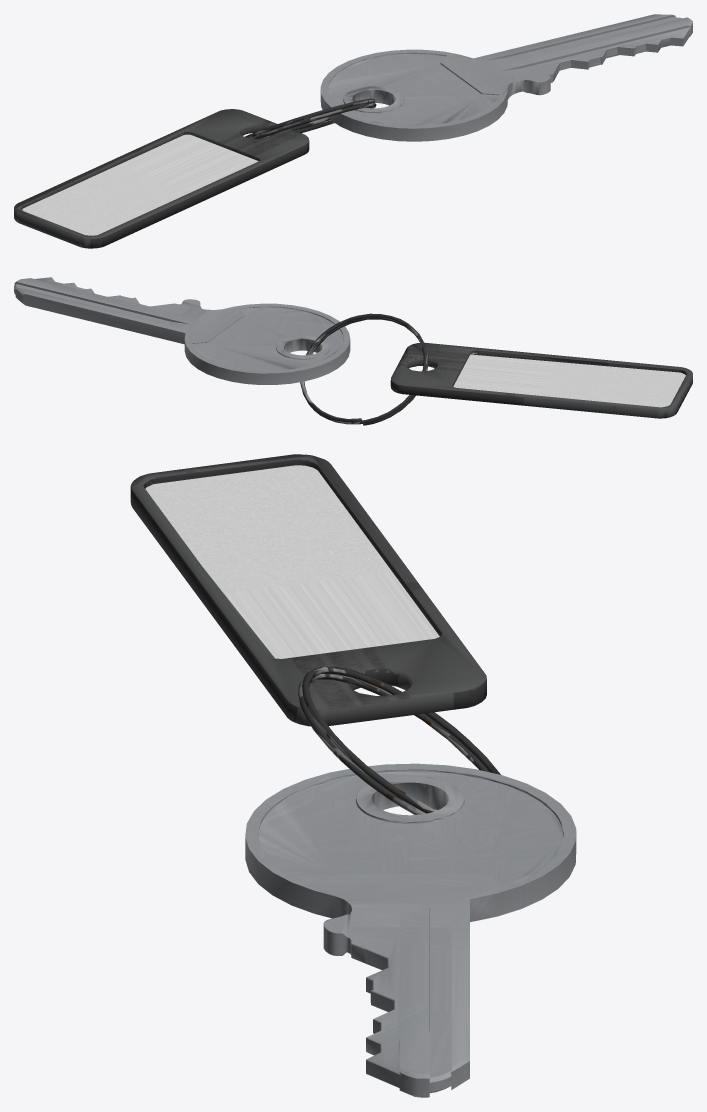
Rendered from klucze.fbx.
The picture shows the model from 3 angles, top to bottom: view 1: azimuth 30°, elevation 25°; view 2: azimuth 150°, elevation 25°; view 3: azimuth 270°, elevation 25°; orthographic projection. The views are drawn at different scales.
Parts seen in each view (by area): view 1: Klucz; view 2: Klucz; view 3: Klucz.
Part boxes in pixels (x1=…): Klucz: x1=14, y1=14, x2=692, y2=248; Klucz: x1=14, y1=277, x2=692, y2=425; Klucz: x1=130, y1=454, x2=576, y2=1097.
Bounding box in the file's own units: 19.28 × 2.01 × 5.92.
